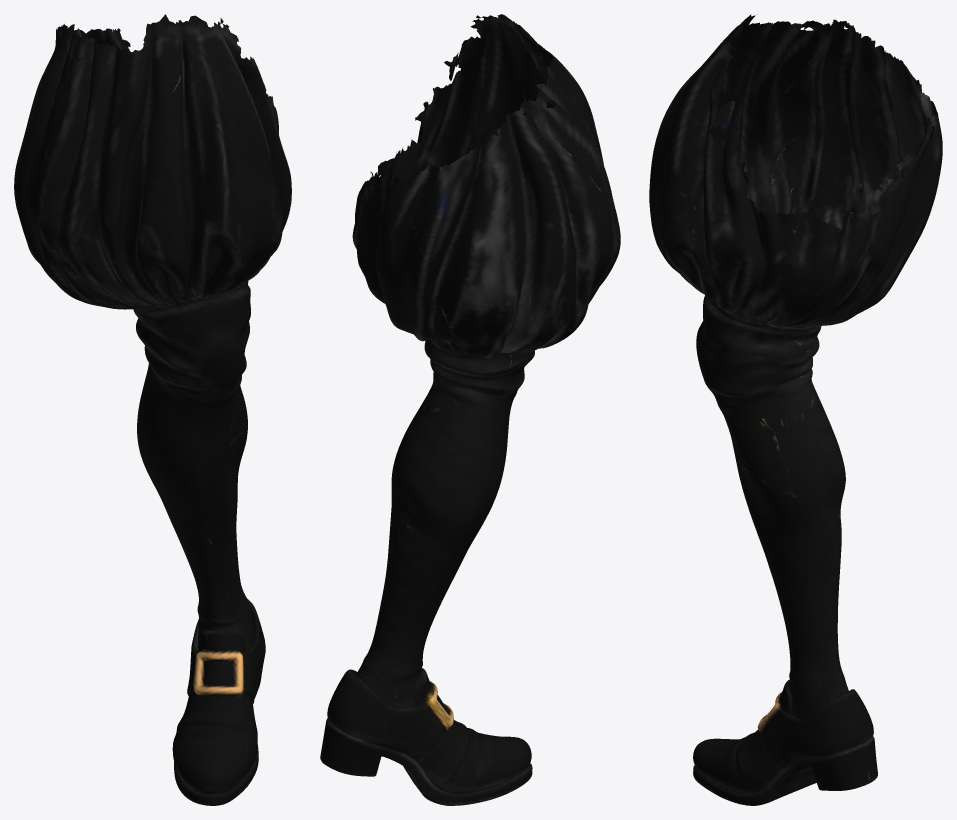
File: pierDer.obj
The picture shows the model from 3 angles, left to right: view 1: azimuth 30°, elevation 25°; view 2: azimuth 150°, elevation 25°; view 3: azimuth 270°, elevation 25°; orthographic projection. The views are drawn at different scales.
Parts seen in each view (by area): view 1: pierDer; view 2: pierDer; view 3: pierDer.
Part boxes in pixels (bbox=[...]): pierDer: bbox=[14, 14, 291, 805]; pierDer: bbox=[320, 14, 620, 805]; pierDer: bbox=[649, 14, 942, 805].
Size of the model in its own units: 0.3497 by 1.02 by 0.3606.
Materials: 1 (1 with a texture image).
